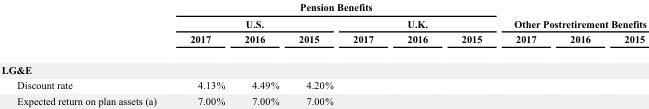table: (0, 0, 645, 106)
table column: (0, 0, 172, 106), (172, 0, 234, 106), (497, 0, 552, 106), (234, 0, 288, 106), (288, 0, 342, 106), (389, 0, 443, 106), (443, 0, 497, 106), (552, 0, 606, 106), (342, 0, 389, 106), (606, 0, 645, 106)
table column header: (0, 0, 645, 54)
table projected row header: (0, 54, 645, 77)
table row: (0, 30, 645, 54), (0, 54, 645, 77), (0, 14, 645, 30), (0, 77, 645, 92), (0, 0, 645, 14), (0, 92, 645, 106)
table spanning cell: (172, 0, 497, 14), (497, 0, 645, 30), (172, 14, 342, 30), (342, 14, 497, 30)
